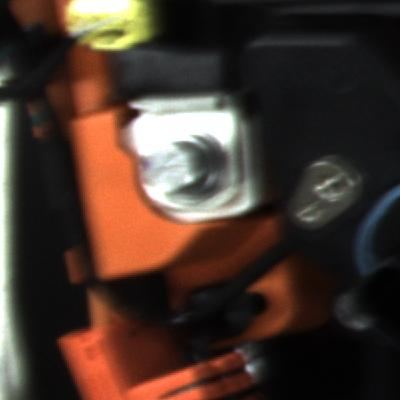nut_b: (141, 129, 241, 211)
